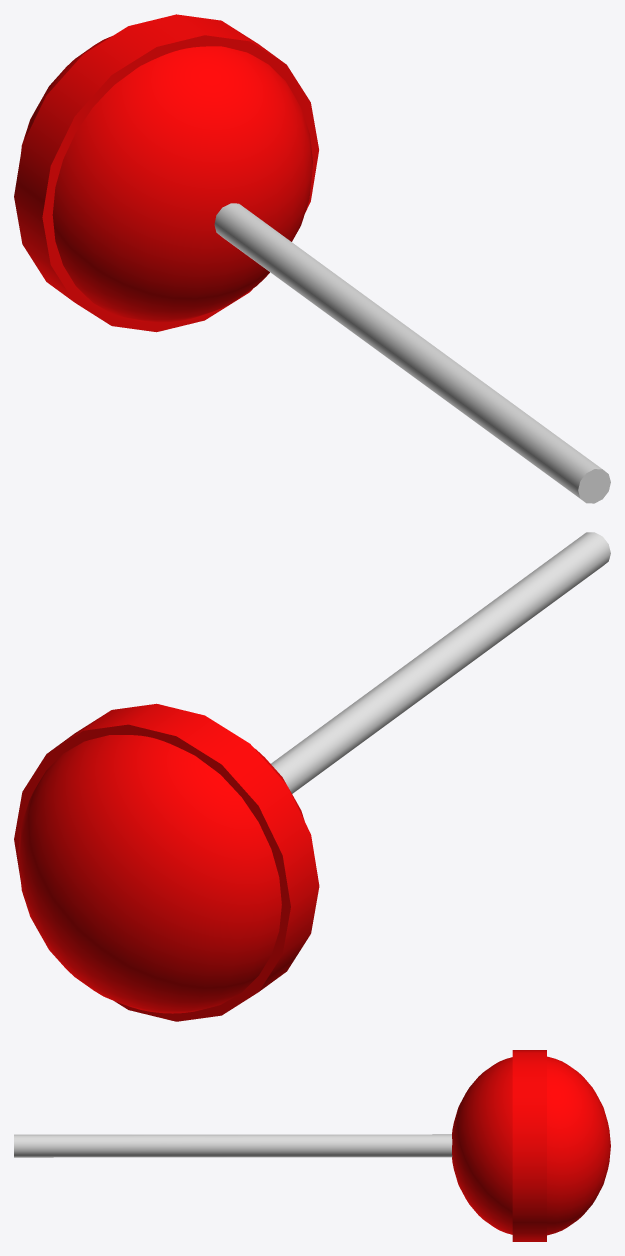
File: lollipop.FBX
3 views of the same model, one above another, from view 1: azimuth 30°, elevation 25°; view 2: azimuth 150°, elevation 25°; view 3: azimuth 270°, elevation 25° (orthographic). The views are drawn at different scales.
Parts seen in each view (by area): view 1: Sphere001, Cylinder001, Line001; view 2: Sphere001, Cylinder001, Line001; view 3: Sphere001, Line001, Cylinder001.
Part boxes in pixels (x1,y1,x2,y2): Sphere001: [21, 36, 312, 322]; Cylinder001: [14, 14, 318, 332]; Line001: [214, 203, 610, 503]; Sphere001: [18, 735, 304, 1013]; Cylinder001: [14, 703, 319, 1021]; Line001: [271, 532, 610, 793]; Sphere001: [452, 1056, 610, 1235]; Line001: [14, 1134, 452, 1157]; Cylinder001: [512, 1050, 546, 1241].
Bounding box in the file's own units: 3.39 × 3.34 × 10.51.
